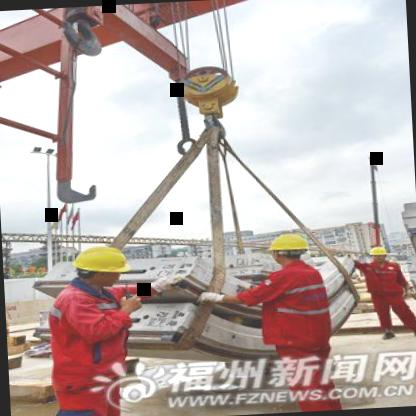helmet: (63, 242, 136, 289), (260, 229, 314, 268), (362, 243, 392, 265)
